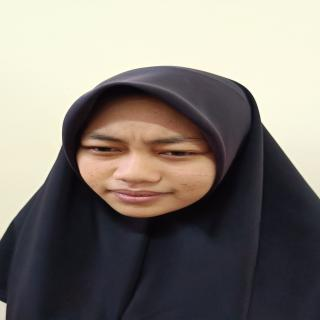Marah: (70, 90, 221, 231)
